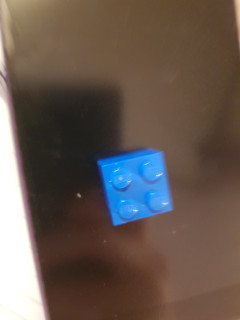2x2 blue: (91, 146, 176, 228)
